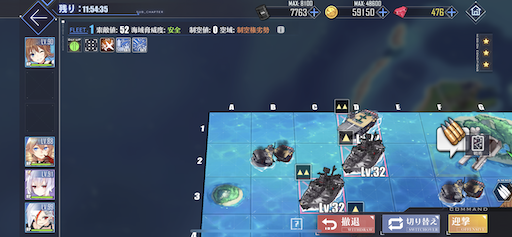lv1: (339, 130, 385, 175)
lv2: (339, 130, 385, 175), (295, 165, 342, 208), (334, 97, 376, 131)
